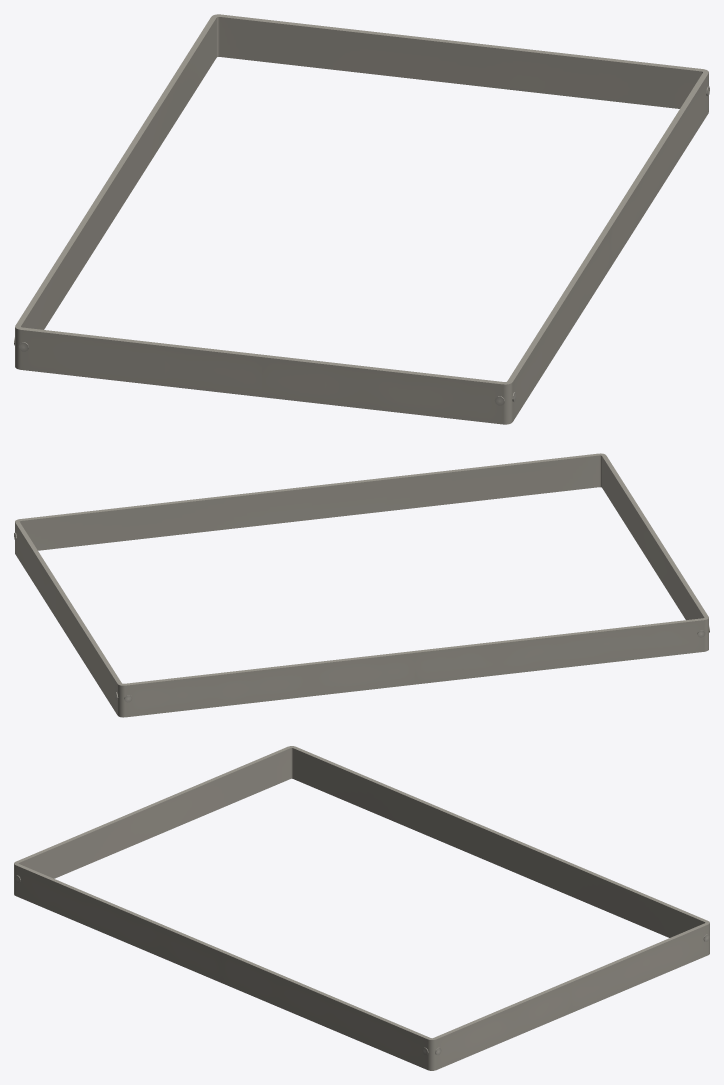
The model's file is top_frame_0101_w600_d400.glb.
The picture shows the model from 3 angles, top to bottom: view 1: azimuth 30°, elevation 25°; view 2: azimuth 150°, elevation 25°; view 3: azimuth 270°, elevation 25°; orthographic projection. The views are drawn at different scales.
Parts seen in each view (by area): view 1: top_frame_0101_w600_d400; view 2: top_frame_0101_w600_d400; view 3: top_frame_0101_w600_d400.
Boxes of the visible parts, box(x1,y1,x2,y2) form: top_frame_0101_w600_d400: box(14, 14, 709, 424); top_frame_0101_w600_d400: box(14, 453, 709, 717); top_frame_0101_w600_d400: box(14, 746, 709, 1070).
Size of the model in its own units: 0.7021 by 0.0343 by 0.7021.
Materials: 1 (1 with a texture image).
